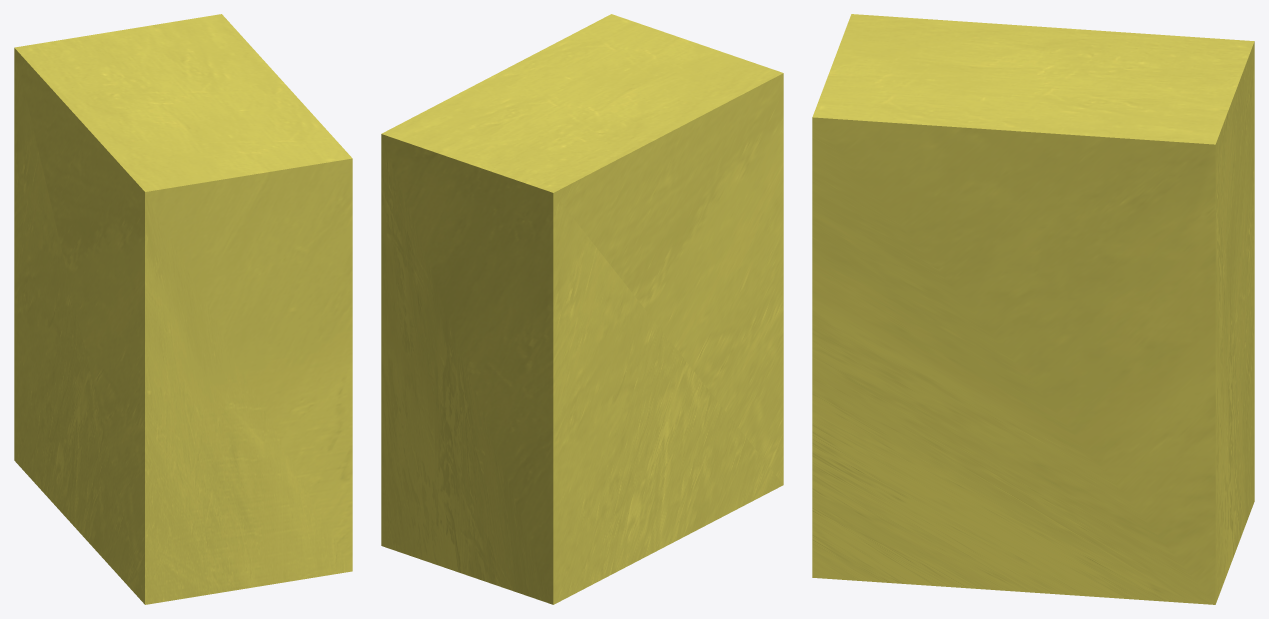
Rendered from jaune8.FBX.
The picture shows the model from 3 angles, left to right: view 1: azimuth 30°, elevation 25°; view 2: azimuth 150°, elevation 25°; view 3: azimuth 270°, elevation 25°; orthographic projection. The views are drawn at different scales.
Visible parts, largest first — view 1: Boîte063; view 2: Boîte063; view 3: Boîte063.
Part boxes in pixels (x1,y1,x2,y2): Boîte063: [14, 14, 352, 604]; Boîte063: [381, 14, 783, 604]; Boîte063: [812, 14, 1254, 604].
Size of the model in its own units: 3.34 by 5.48 by 4.77.
Materials: 1 (1 with a texture image).
